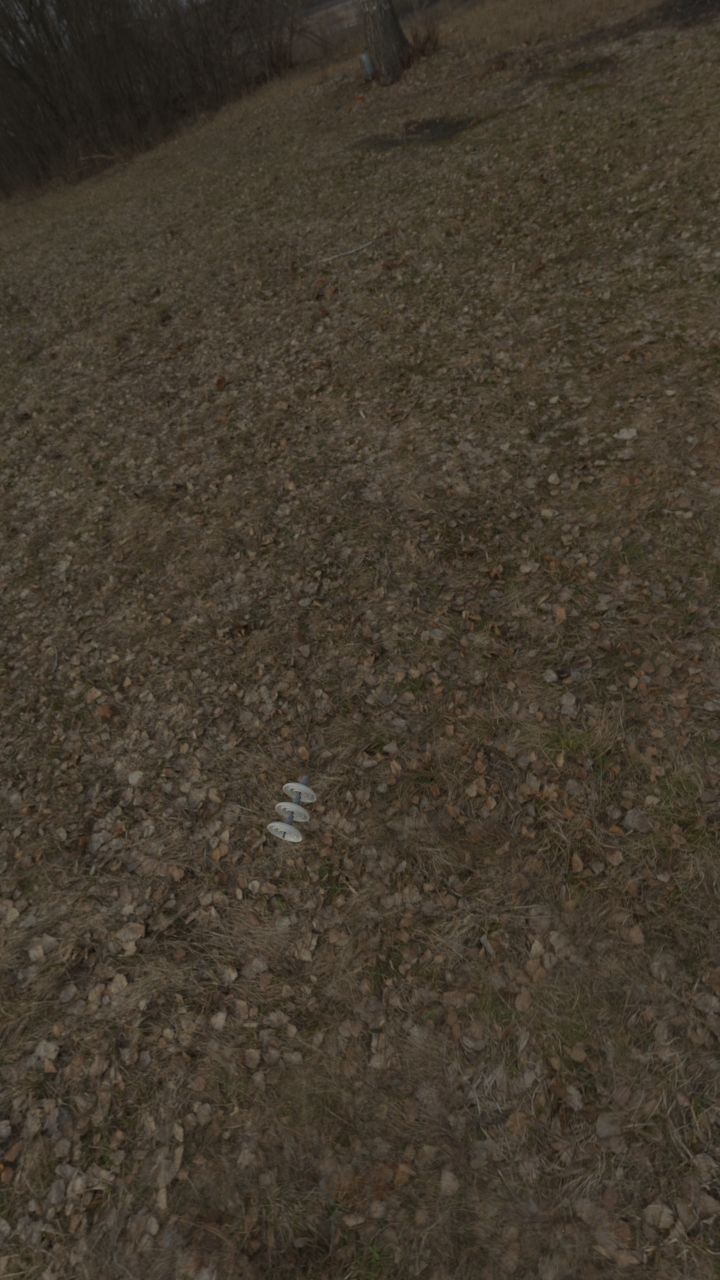ceramicinsulators: (268, 775, 317, 842)
